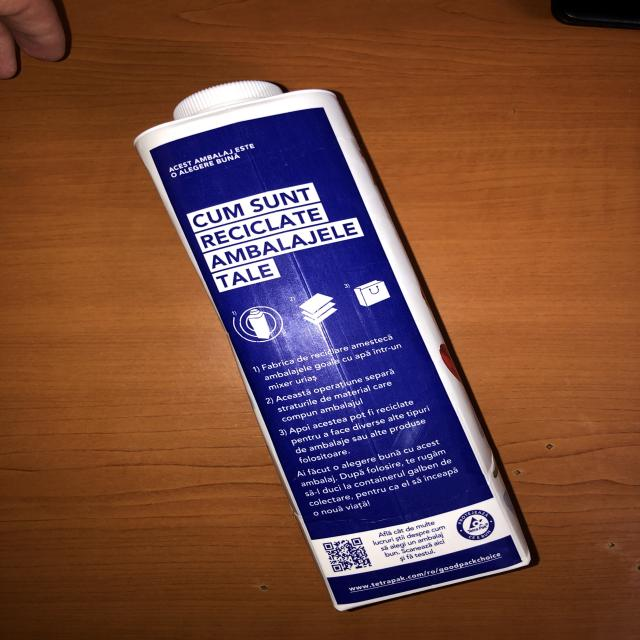milk: (132, 81, 539, 612)
